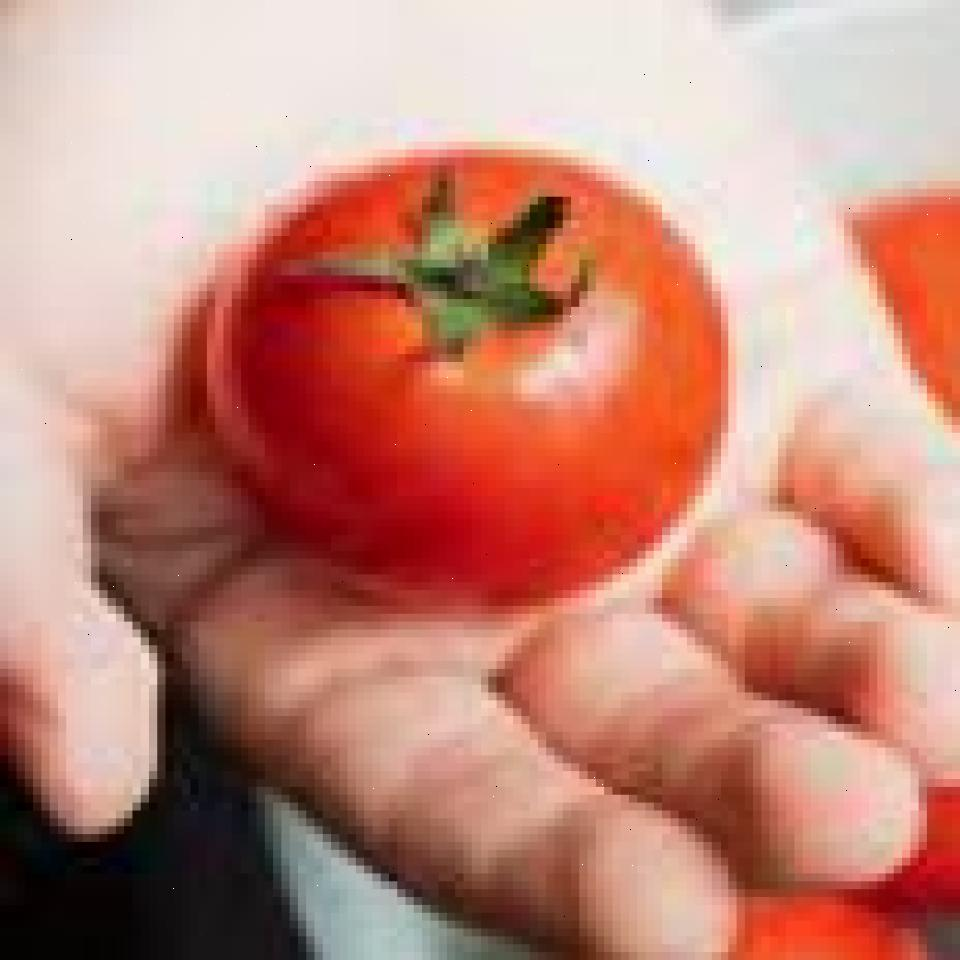Healthy: (190, 119, 756, 592)
